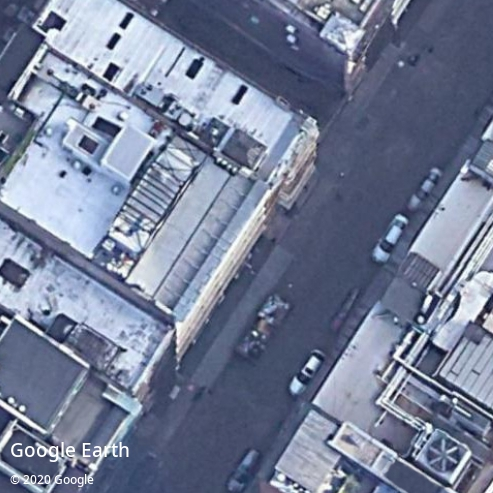Vent: (425, 437, 461, 473)
